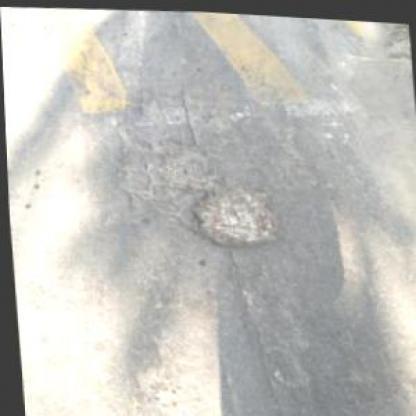pothole: (184, 176, 284, 251), (150, 134, 215, 192)
